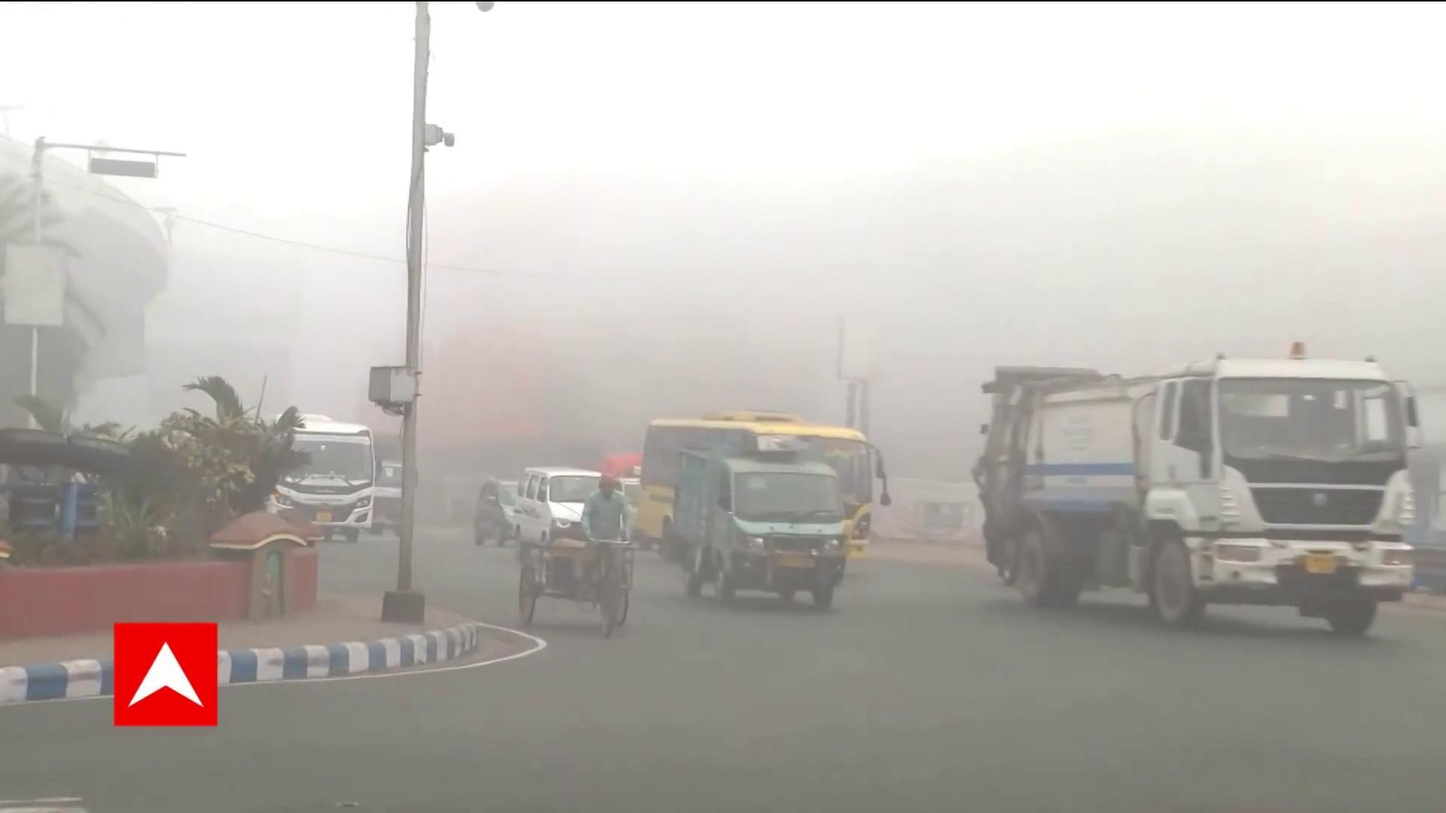Bus: (640, 413, 881, 563)
Car: (516, 462, 627, 557)
Truck: (969, 357, 1426, 642), (668, 445, 851, 615)
